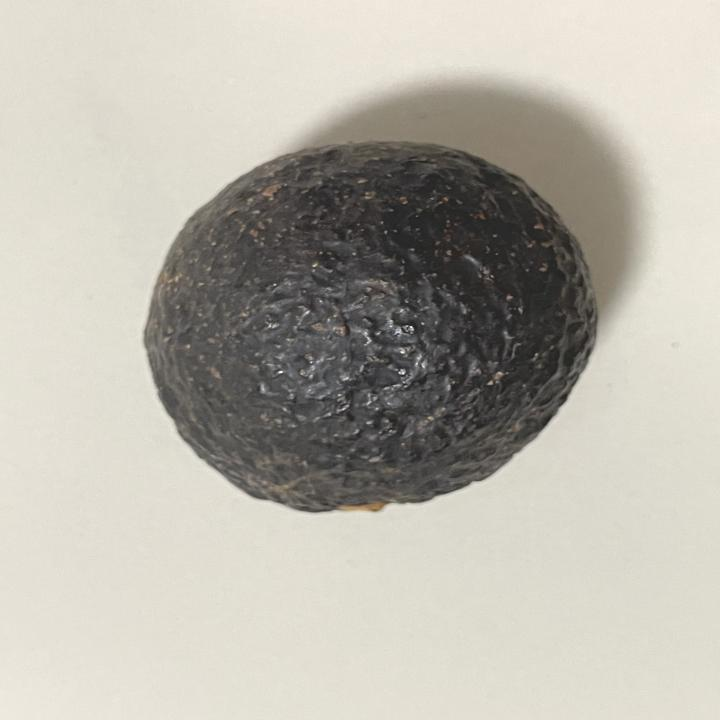Level2: (134, 136, 608, 524)
